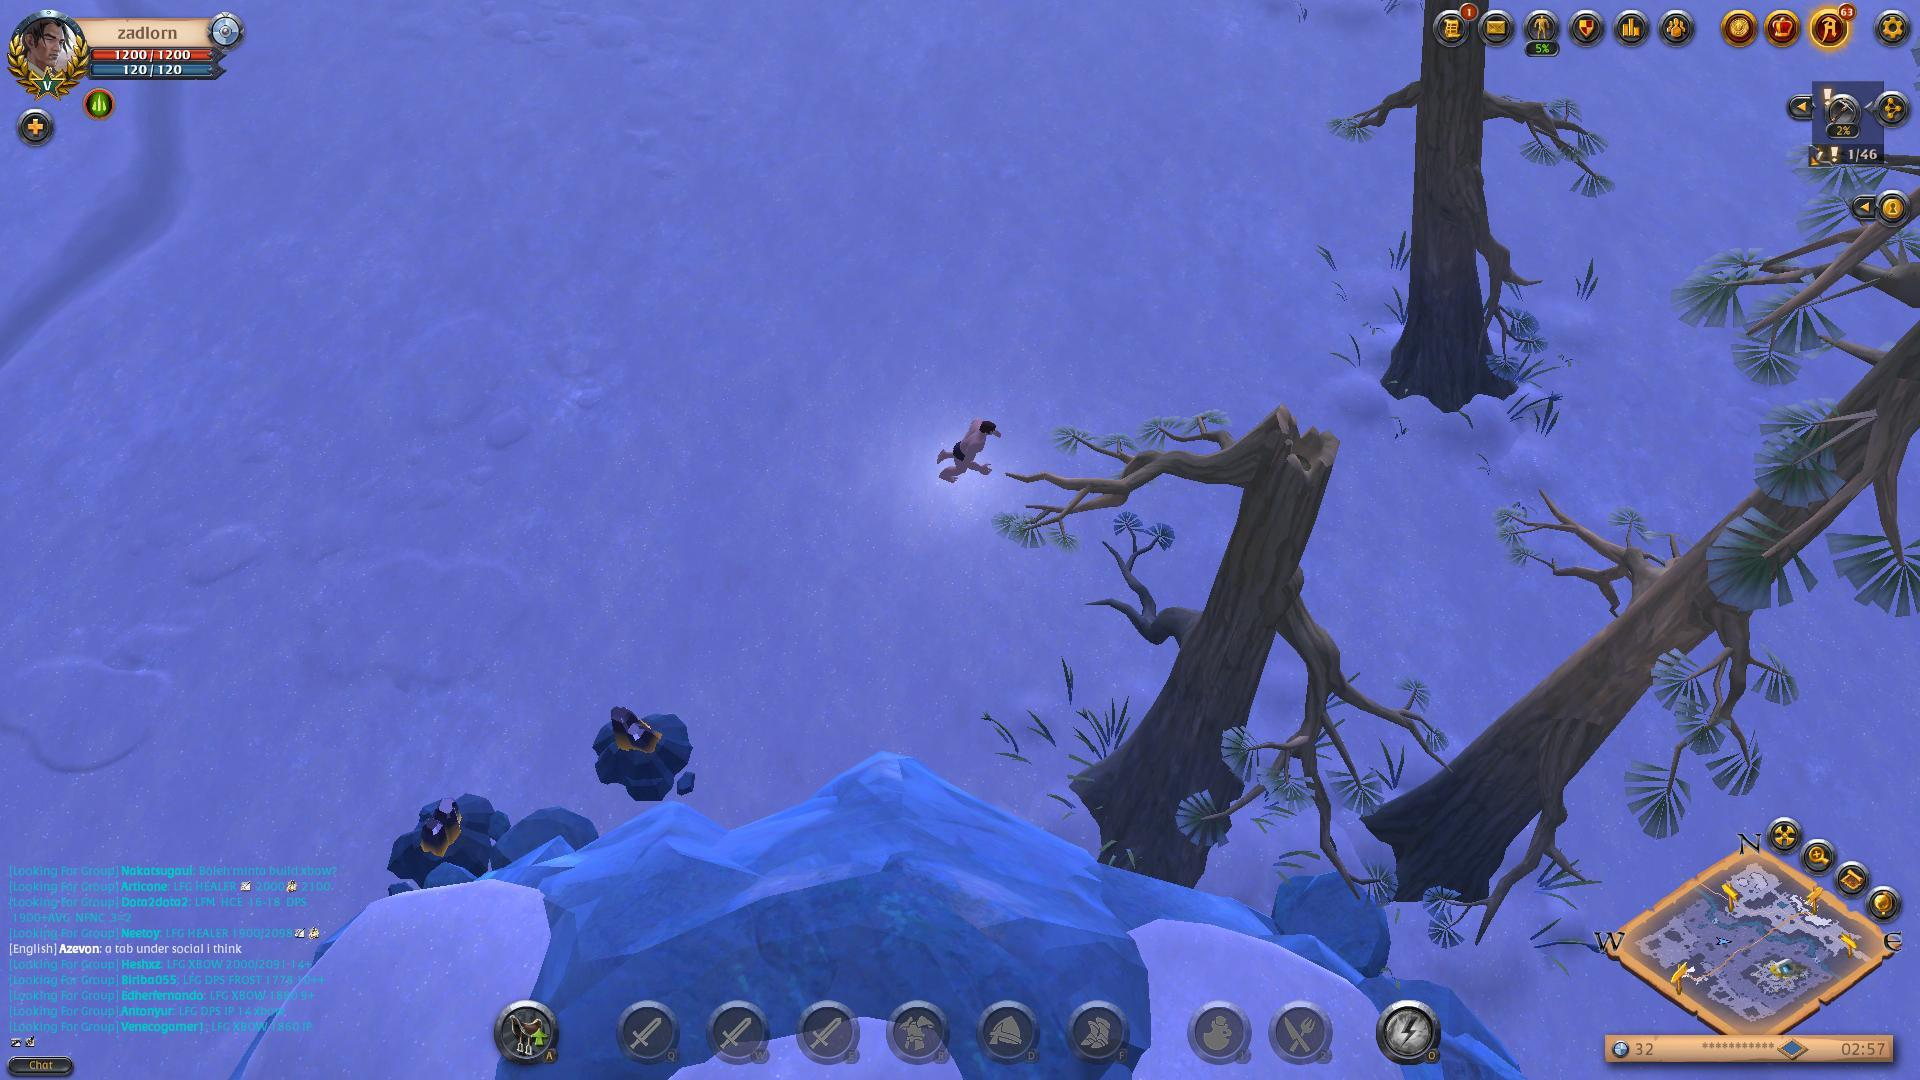copper_ore: (583, 705, 725, 804), (382, 802, 521, 893)
